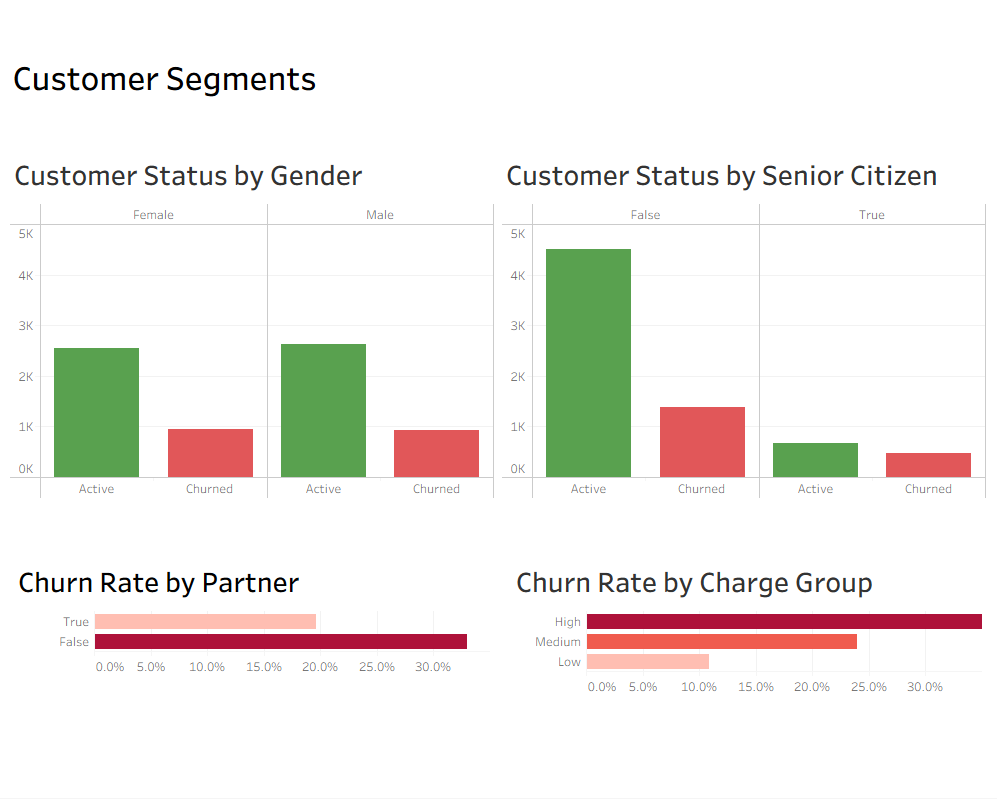

The page's visual inventory and layout, read from the dashboard file:
{"tool":"tableau","page":{"name":"Customer Segments","canvas":[1000,800],"ordinal":1},"visuals":[{"type":"text","box":[8,8,984,142]},{"type":"worksheet","title":"Customer Status by Gender","mark":"Automatic","rows":["CustomerID"],"cols":["Gender","customer_status"],"box":[8,150,492,355]},{"type":"worksheet","title":"Customer Status by Senior Citizen","mark":"Automatic","rows":["CustomerID"],"cols":["Senior Citizen","customer_status"],"box":[500,150,492,355]},{"type":"worksheet","title":"Churn Rate by Partner","mark":"Automatic","rows":["Partner"],"cols":["Calculation_0262250169528320"],"box":[8,505,492,287]},{"type":"worksheet","title":" Churn Rate by Charge Group","mark":"Automatic","rows":["charge_group"],"cols":["Calculation_0262250169528320"],"box":[500,505,492,287]}]}

Visuals, with their boxes in screenshot pixels (x1, y1, x2, y2), scaled from the page's 1000x800 canvas onto the 997x799 screenshot:
text: 8/8/989/150
"Customer Status by Gender" worksheet: 8/150/498/504
"Customer Status by Senior Citizen" worksheet: 498/150/989/504
"Churn Rate by Partner" worksheet: 8/504/498/791
" Churn Rate by Charge Group" worksheet: 498/504/989/791
